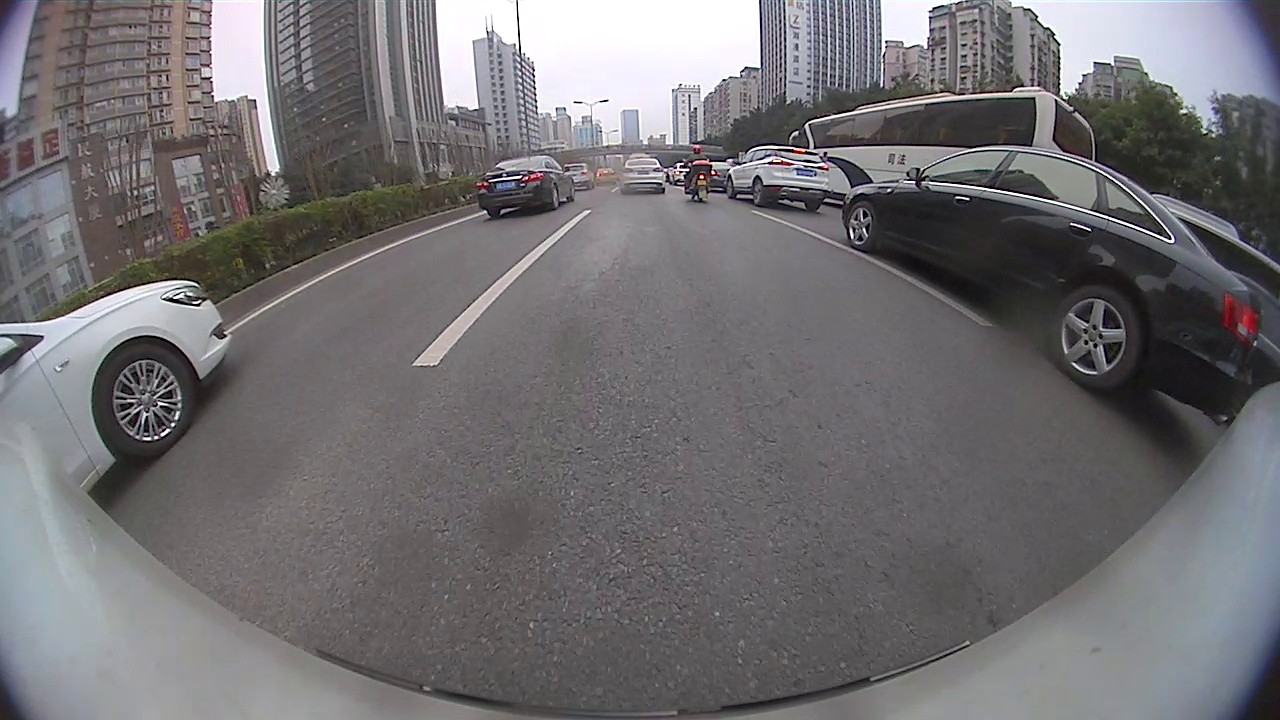bus: (788, 89, 1097, 205)
car: (847, 143, 1261, 430), (0, 275, 234, 498), (725, 148, 830, 209), (478, 155, 575, 216), (620, 158, 667, 193)
front: (92, 342, 197, 460), (846, 203, 875, 249), (724, 172, 734, 199)
rear: (1048, 286, 1143, 389), (750, 177, 765, 206), (550, 184, 560, 210)
rider: (683, 143, 714, 200)
